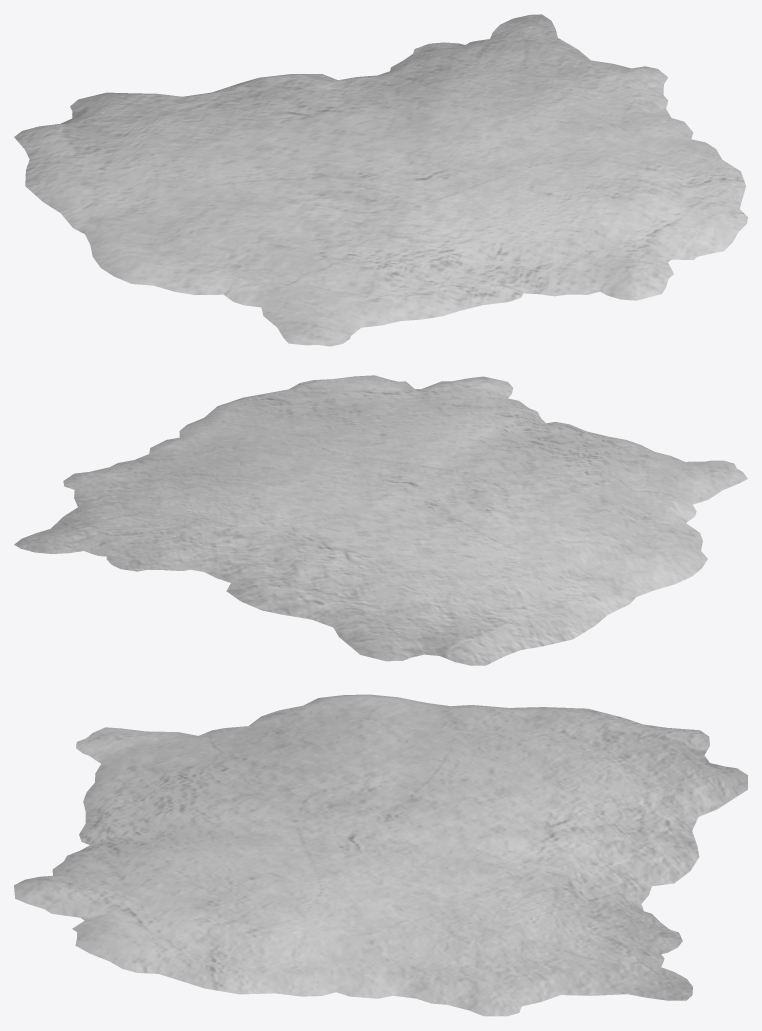
The model's file is snow_d_a04.fbx.
3 renders of one model, top to bottom at view 1: azimuth 30°, elevation 25°; view 2: azimuth 150°, elevation 25°; view 3: azimuth 270°, elevation 25°, orthographic. The views are drawn at different scales.
Parts seen in each view (by area): view 1: d_a04; view 2: d_a04; view 3: d_a04.
Part boxes in pixels (x1,y1,x2,y2): d_a04: (14,14,747,346); d_a04: (14,375,747,665); d_a04: (14,694,747,1016).
Size of the model in its own units: 1170 by 33.03 by 1127.
